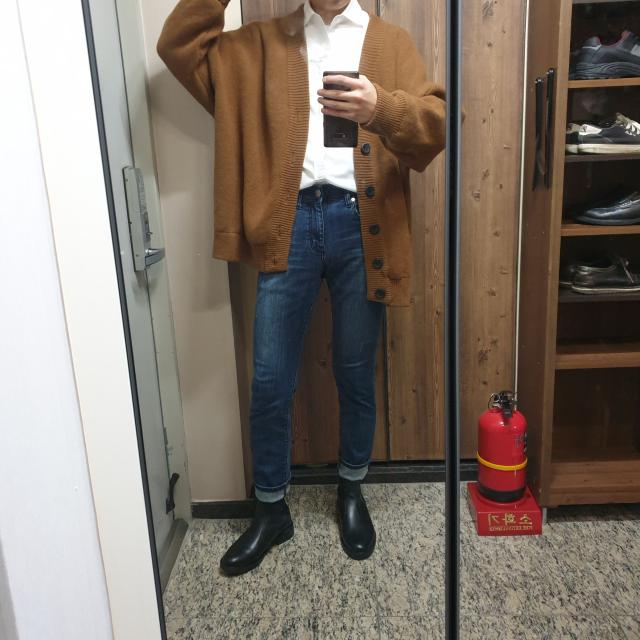cardigan: (151, 0, 451, 309)
denimpants: (246, 184, 388, 503)
